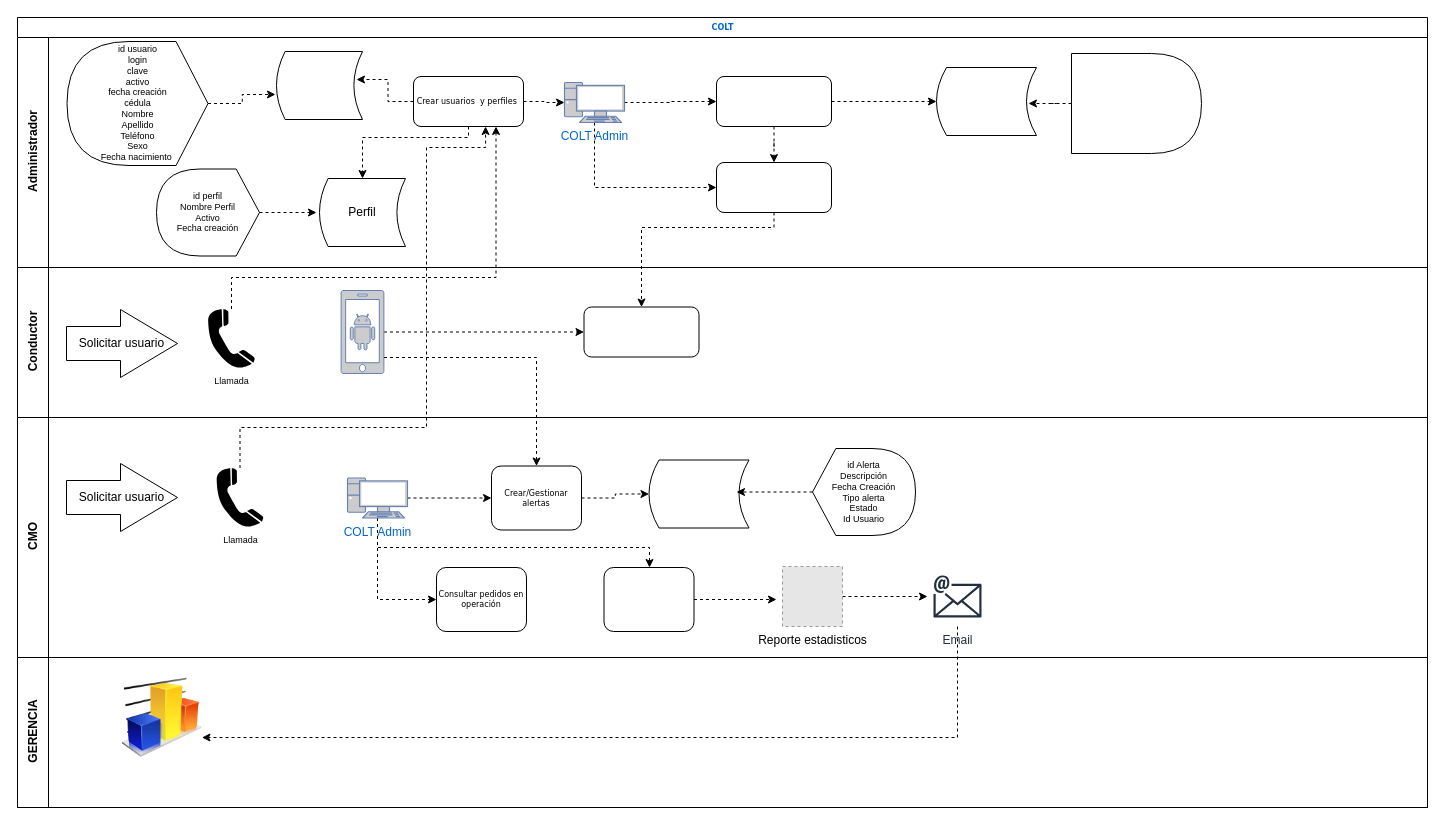
This 1445x825 diagram has some shape labels left out. Grey dashed boxes stand in for pictures. The shapes that lost their labels are listed below. From the top down, each one's centre as x and y in pixels, then its label:
pixel 319 85: Usuario
pixel 774 101: Crear ruta
pixel 986 101: Ruta
pixel 1136 103: Id ruta Descripción Código Ciudad origen Ciudad destino Fecha creación
pixel 774 187: Asignar ruta
pixel 362 332: COLT App
pixel 641 331: Consultar ruta / Ejecutar
pixel 698 493: Alerta
pixel 648 599: Generación informes
pixel 162 717: Toma decisiones
